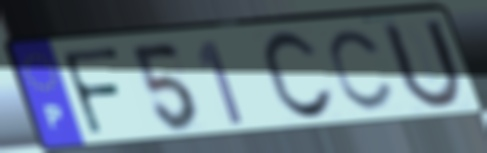1: (195, 38, 246, 128)
5: (128, 38, 201, 136)
C: (259, 28, 338, 125), (326, 26, 398, 115)
F: (58, 46, 126, 141)
U: (378, 17, 468, 114)
